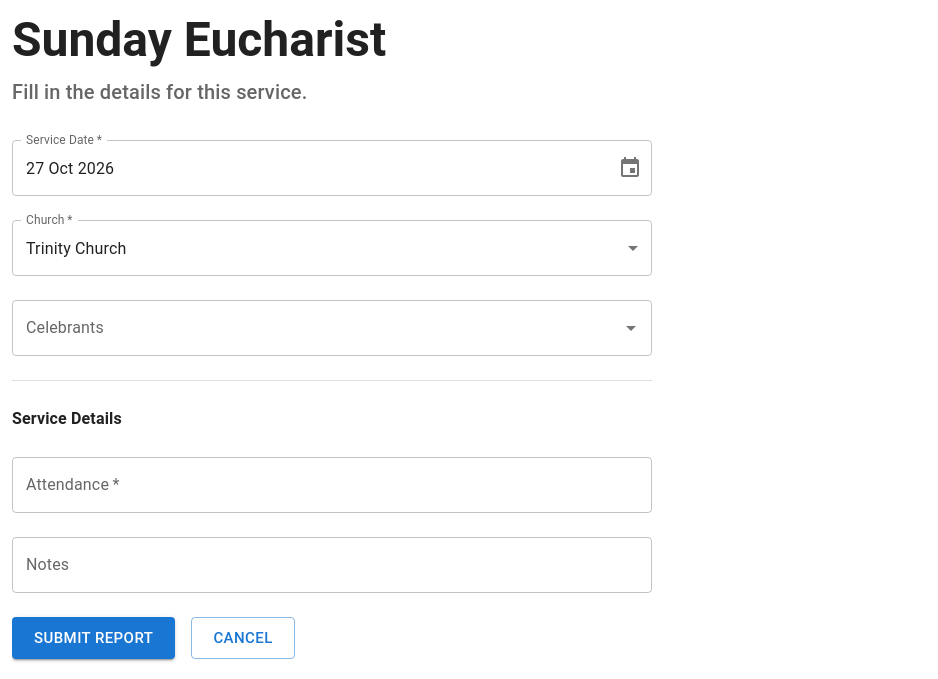
Test: ServiceSubmitPage › shows the up-to-date message when the reporter has no pending links left
Check: the heading "Sunday Eucharist" is shown, box 12,11 -> 386,68
Type "40" into the number field labelled "Attendance *".
click(332, 485); type("40")  # box 12,457 -> 652,513
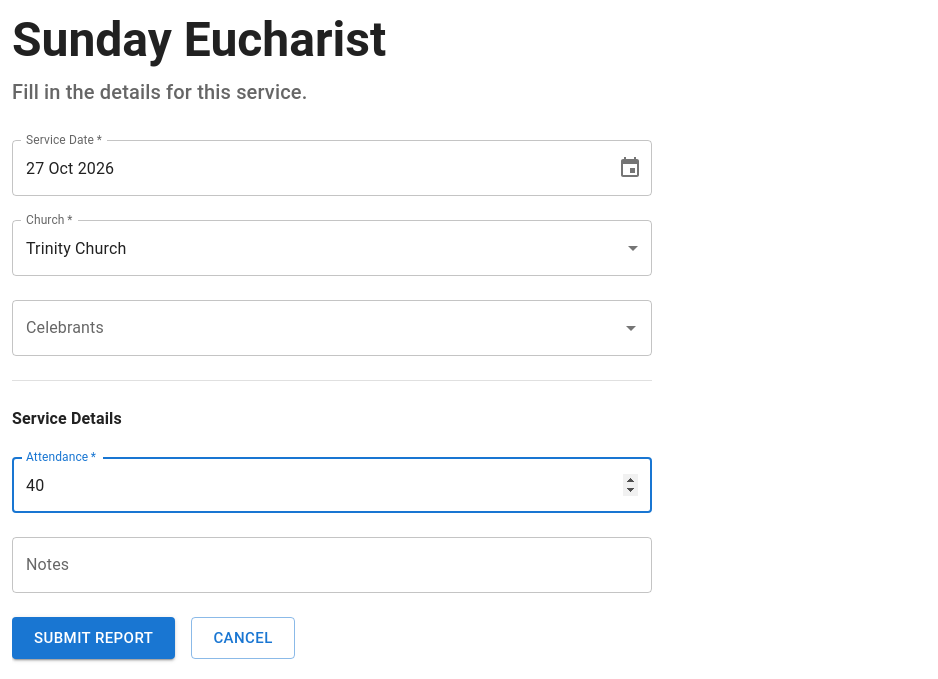
Click the button "Submit Report".
click(94, 638)  # box 12,617 -> 175,659
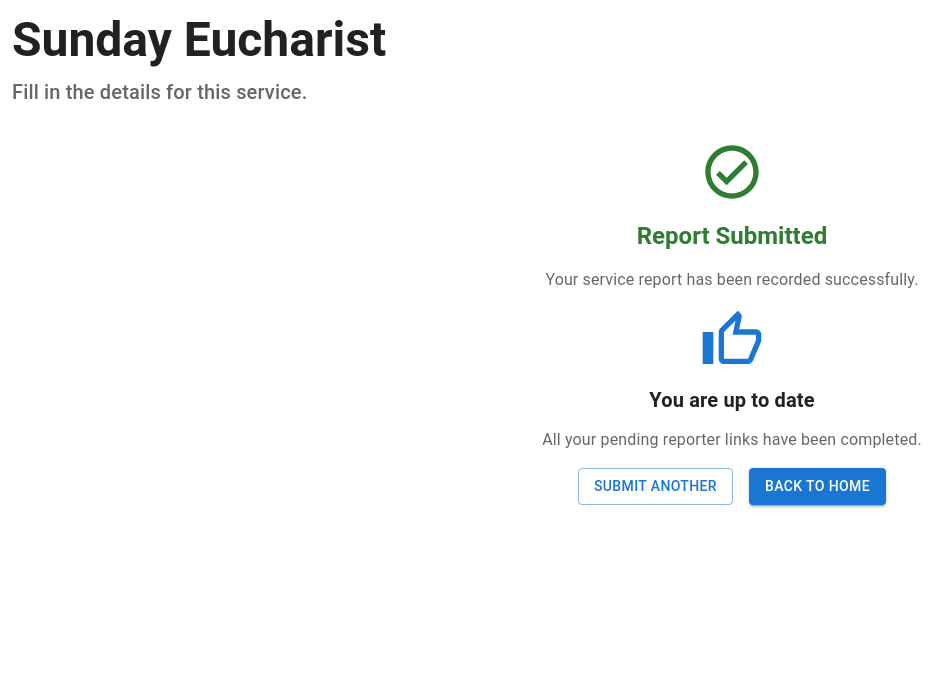
Check: the heading "You are up to date" is shown, box 649,384 -> 815,416
Check: the text "All your pending reporter links have been completed." is shown, box 542,428 -> 922,452
